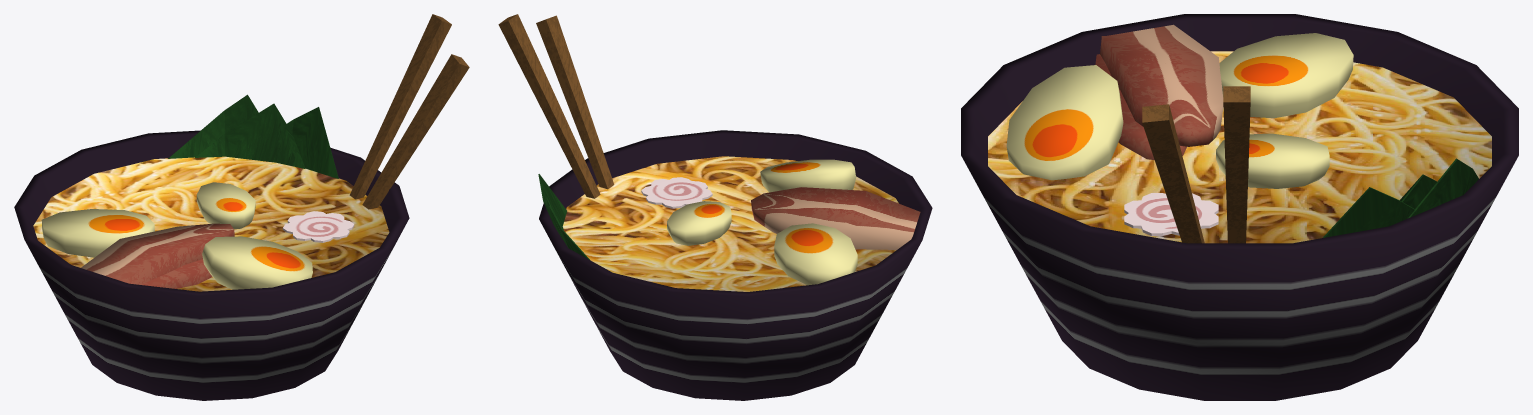
Rendered from ramen.fbx.
The picture shows the model from 3 angles, left to right: view 1: azimuth 30°, elevation 25°; view 2: azimuth 150°, elevation 25°; view 3: azimuth 270°, elevation 25°; orthographic projection. The views are drawn at different scales.
Visible parts, largest first — view 1: Ramen; view 2: Ramen; view 3: Ramen.
Part boxes in pixels (bbox=[...]): Ramen: bbox=[14, 14, 469, 400]; Ramen: bbox=[498, 14, 932, 400]; Ramen: bbox=[961, 14, 1518, 400].
Size of the model in its own units: 188 by 123 by 157.
